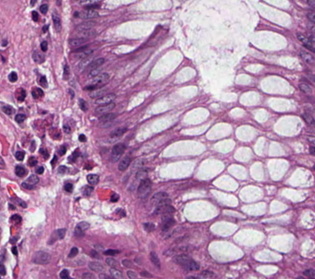nucleus: (174, 254, 199, 270), (297, 33, 314, 52), (89, 72, 108, 87), (137, 178, 151, 198), (48, 228, 65, 243), (111, 143, 125, 161), (151, 192, 170, 205), (75, 28, 96, 39), (95, 102, 114, 114), (74, 221, 89, 236), (32, 251, 49, 264), (95, 93, 115, 104), (161, 214, 174, 230), (87, 58, 104, 70), (89, 86, 106, 98), (154, 204, 174, 214), (73, 48, 92, 58), (300, 50, 313, 64), (69, 37, 85, 48), (77, 57, 89, 71), (118, 156, 130, 170), (88, 261, 103, 272), (99, 113, 115, 123), (110, 127, 126, 137), (150, 252, 160, 267), (302, 111, 313, 124), (109, 267, 122, 278), (32, 51, 44, 62), (31, 87, 43, 98), (105, 257, 118, 267), (299, 83, 311, 93), (199, 270, 215, 277), (87, 174, 98, 184), (69, 149, 78, 161), (303, 269, 314, 278), (63, 63, 69, 78), (68, 247, 77, 257), (83, 186, 92, 195), (90, 68, 100, 76), (64, 182, 72, 192), (144, 223, 154, 231), (90, 250, 100, 258), (122, 259, 132, 267), (127, 270, 137, 278), (39, 76, 46, 87), (79, 99, 86, 110), (60, 269, 68, 278), (82, 272, 94, 278), (40, 41, 47, 51), (40, 148, 47, 158), (111, 192, 118, 201), (141, 271, 151, 277), (104, 250, 118, 254), (59, 145, 65, 154), (63, 125, 70, 132), (36, 166, 43, 173), (58, 166, 66, 172), (309, 145, 314, 154), (79, 134, 85, 141), (100, 274, 110, 278), (94, 245, 103, 249), (69, 90, 73, 97), (52, 156, 55, 164)
